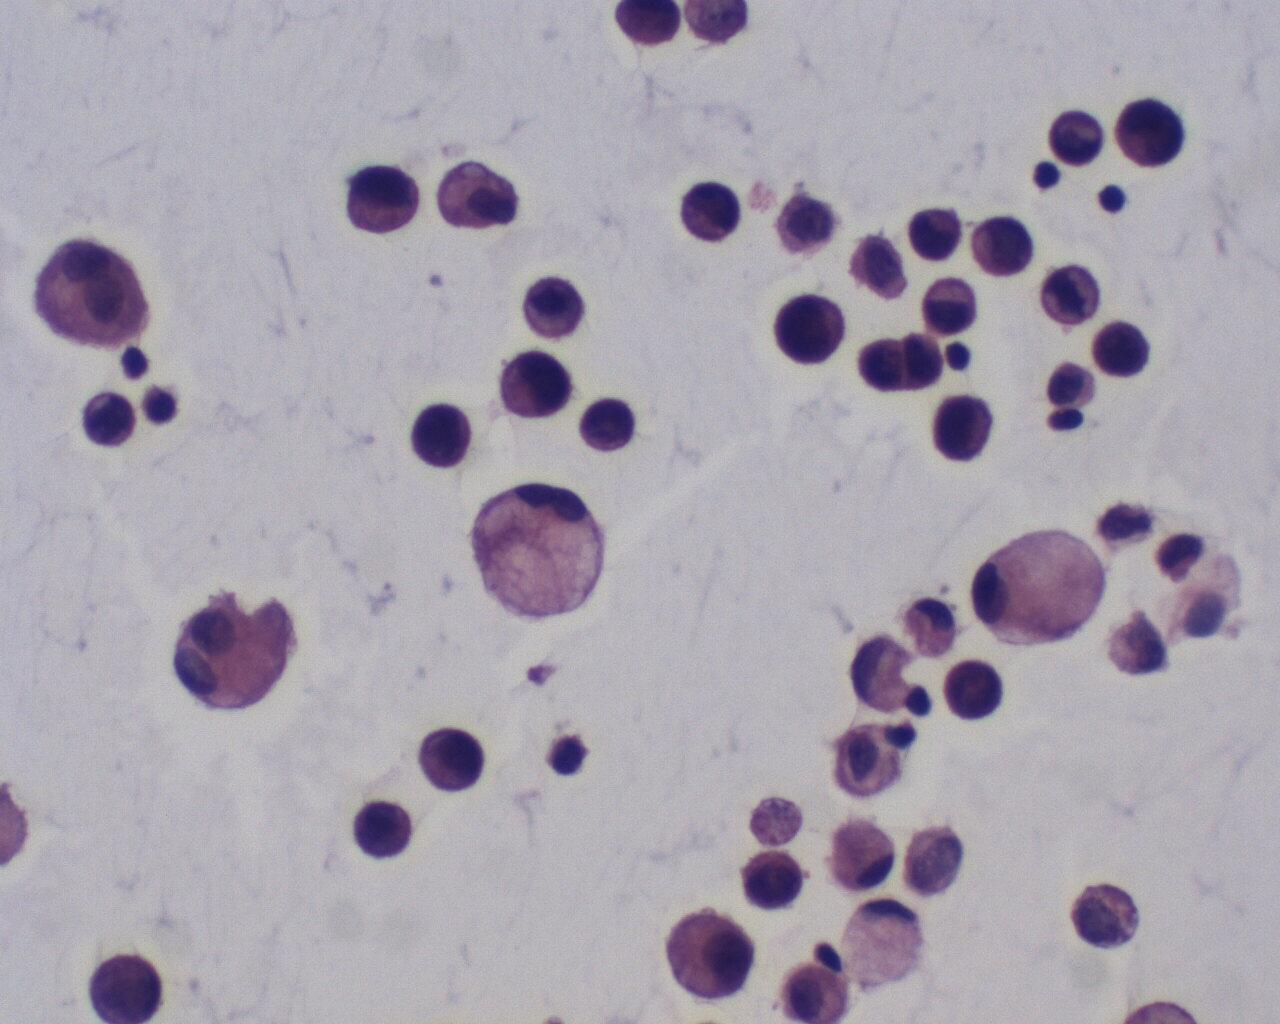ab: (1112, 89, 1195, 176), (770, 286, 851, 371), (494, 341, 575, 423), (342, 158, 421, 240), (85, 948, 168, 1024), (674, 170, 748, 256), (928, 392, 1004, 467), (416, 723, 488, 800), (410, 400, 481, 474), (964, 214, 1042, 281), (737, 845, 809, 916), (349, 796, 418, 865), (940, 658, 1008, 728), (1091, 316, 1157, 386), (80, 381, 137, 452), (576, 396, 643, 451)
histo: (469, 473, 616, 627), (965, 518, 1117, 650), (834, 897, 926, 988), (823, 815, 895, 895)
lymph: (938, 338, 978, 375), (1095, 181, 1128, 219)
meso: (24, 240, 154, 349), (779, 962, 845, 1024)
